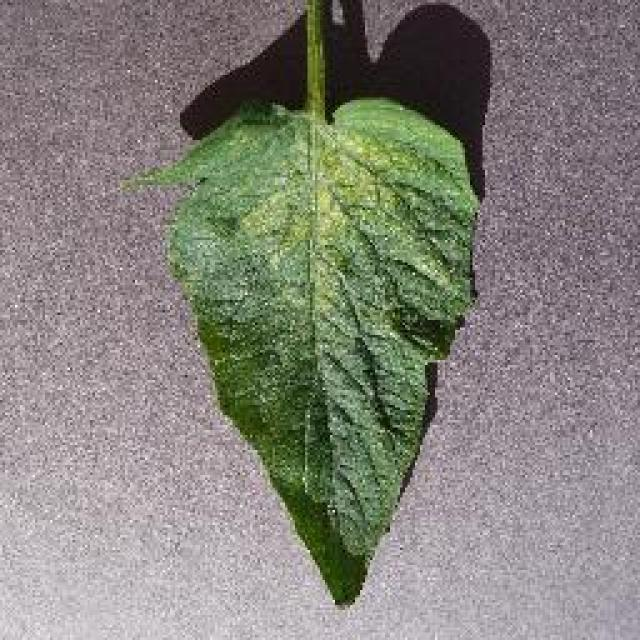Tomato___Spider_mites Two-spotted_spider_mite: (128, 0, 478, 602)
